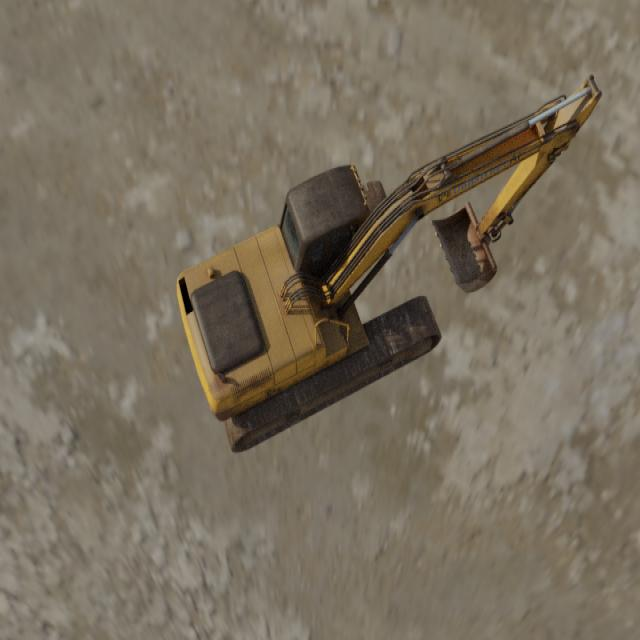excavator: (176, 74, 602, 454)
